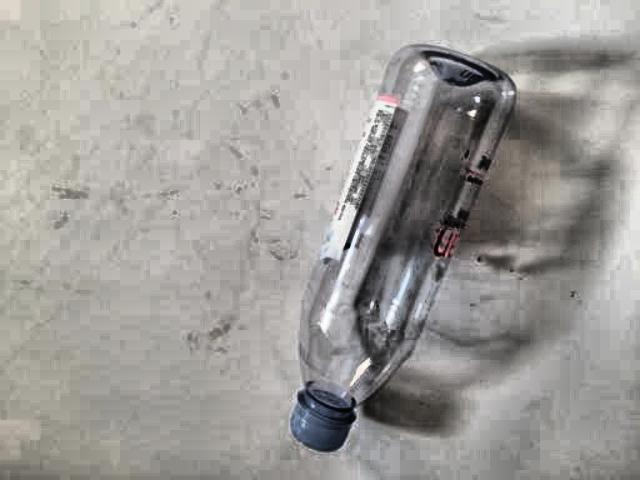Bottles: (266, 34, 532, 473)
